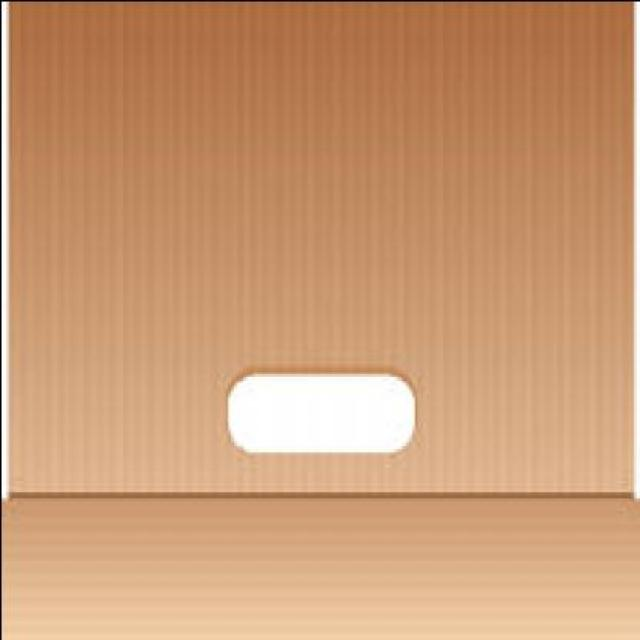CARDBOARD: (3, 3, 637, 497), (1, 496, 640, 638)
